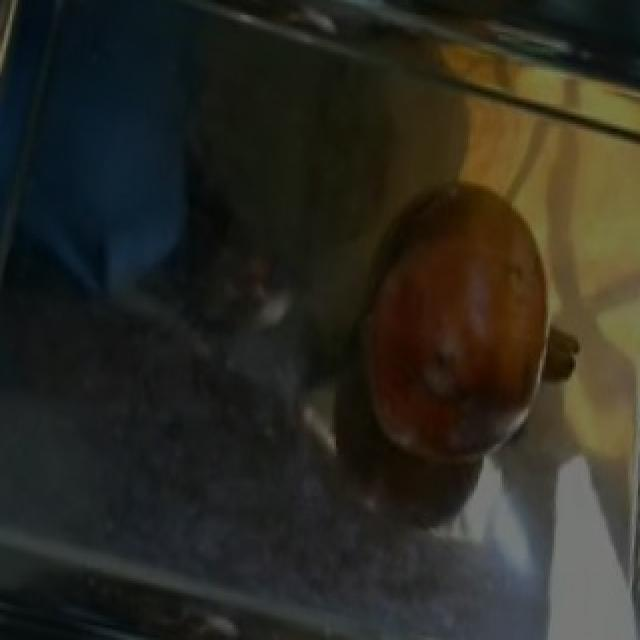fruit: (332, 158, 582, 436)
